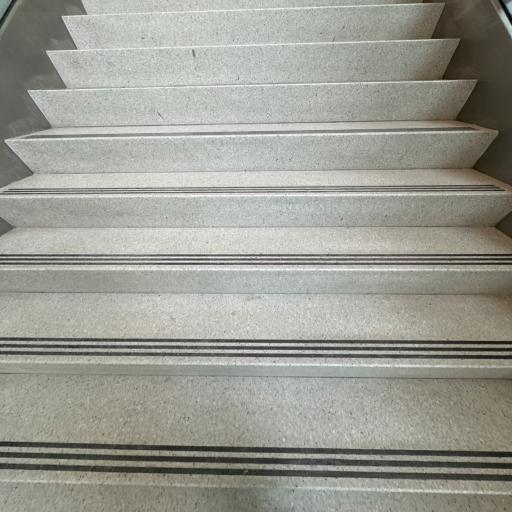Stairs: (0, 0, 512, 512), (0, 293, 512, 444)
